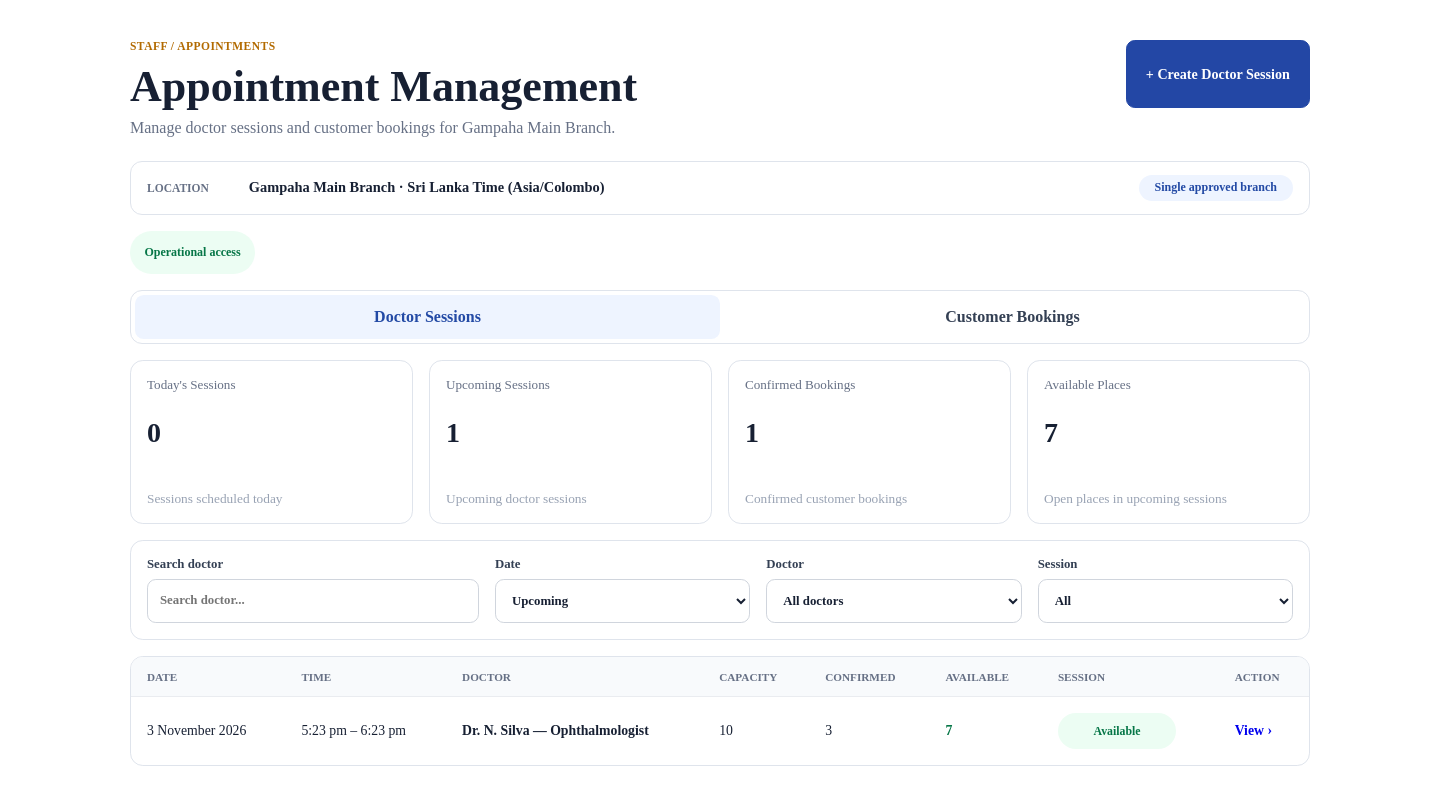
Test: StaffAppointmentsPage › switches to the customer bookings tab and shows Doctor details
Expected: the link "View ›" is shown, [1235, 723, 1272, 738]
Click the tab "Customer Bookings" at (1012,317), box [720, 295, 1305, 339]
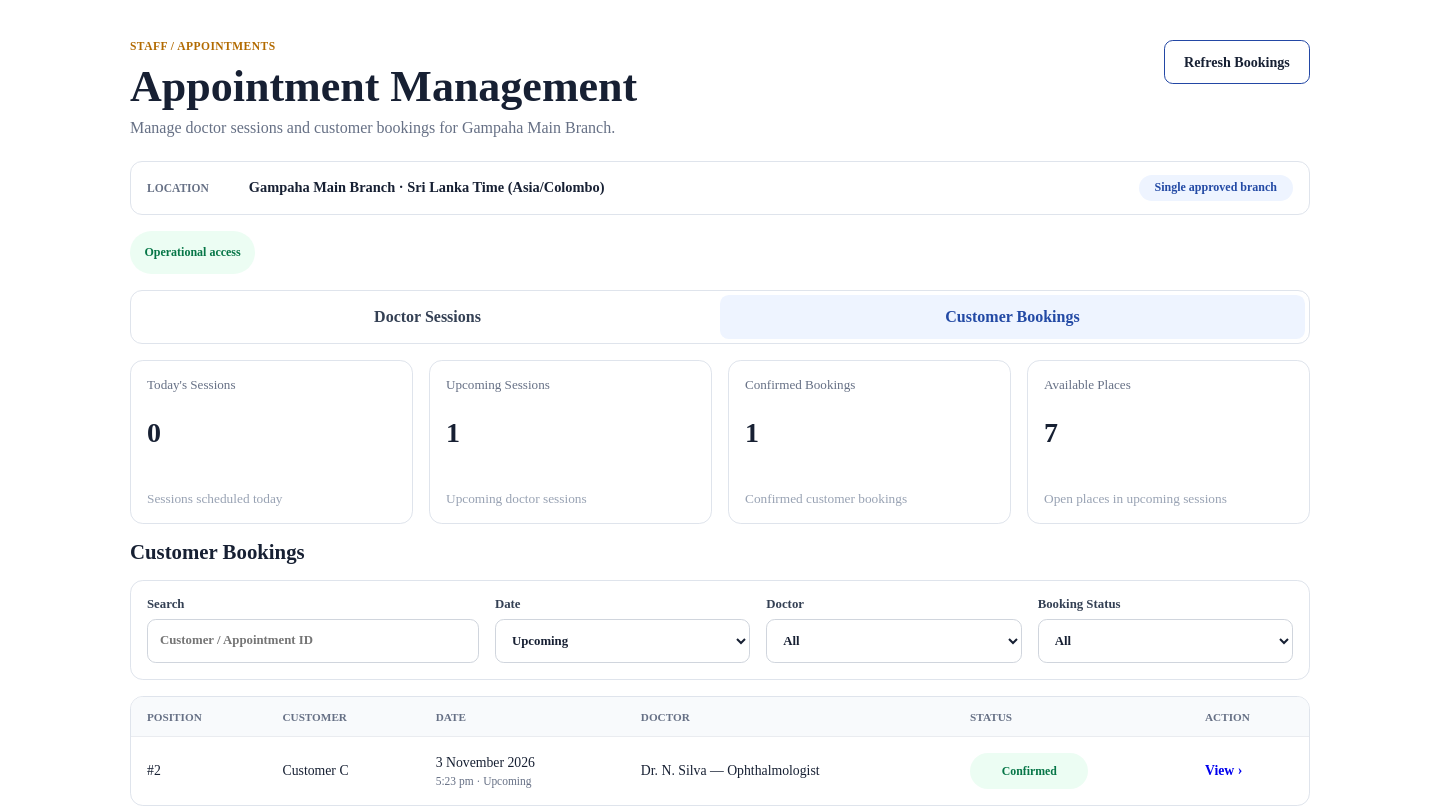
Now the heading "Customer Bookings" is shown, box [130, 540, 305, 563]
Now the text "Customer C" is shown, box [266, 737, 420, 805]
Now the text "Confirmed" is shown, box [970, 753, 1088, 789]
